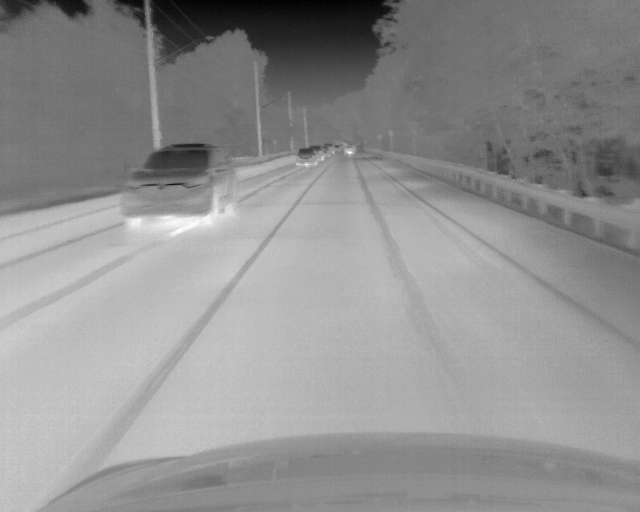car: (119, 143, 236, 232), (297, 148, 316, 167), (320, 145, 332, 160), (312, 146, 323, 162), (333, 142, 341, 155), (345, 146, 354, 157)
